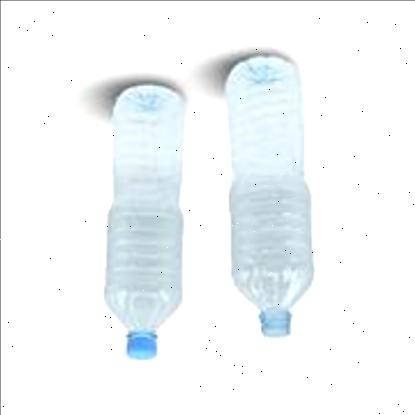Plastic Bottle: (226, 55, 320, 341), (100, 83, 186, 360)
